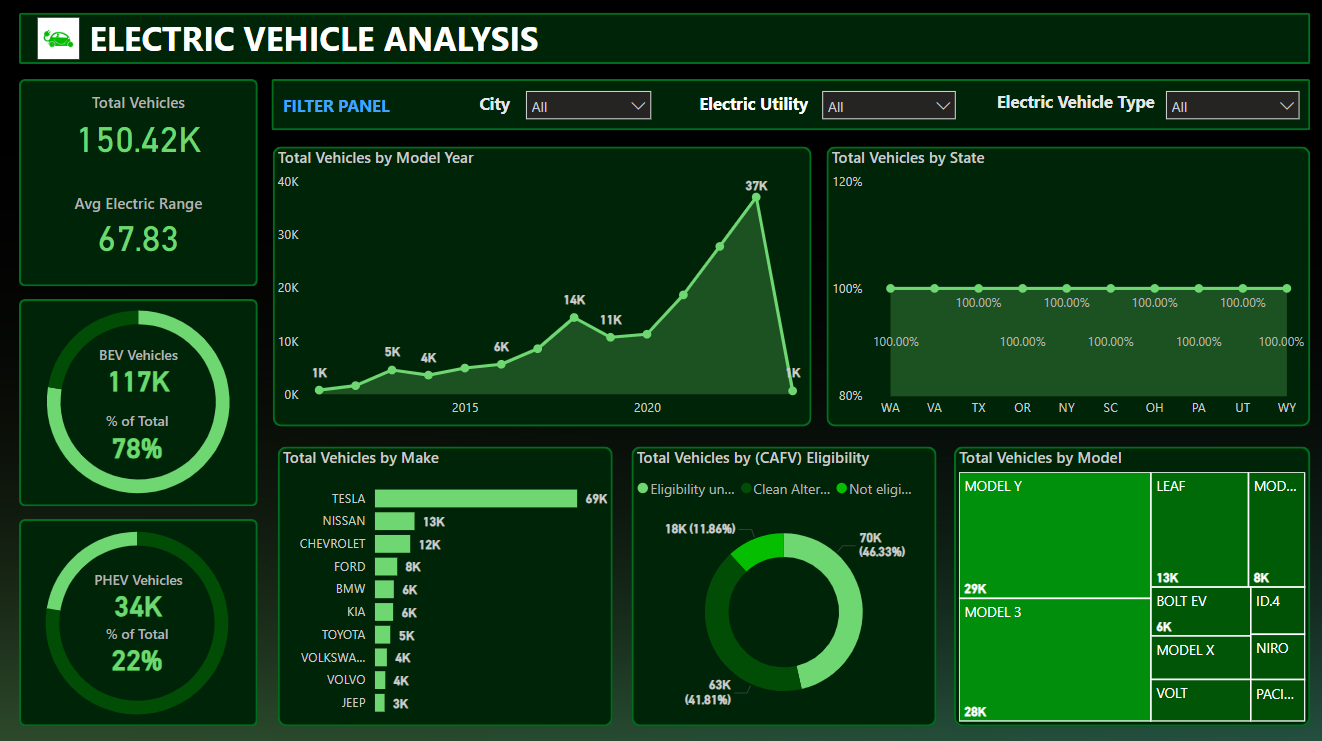

Layout of this report page (visuals, bound fields, positions):
{"tool":"powerbi","page":{"name":"Page 1","canvas":[1280,720],"ordinal":0},"visuals":[{"type":"shape","box":[19.3,13.3,1246.3,49.5],"z":0},{"type":"textbox","box":[82,10.9,471.7,55.5],"z":1000},{"type":"shape","box":[19.3,77.2,230.4,200.3],"z":2000},{"type":"card","title":"Total Vehicles","fields":{"Values":["Electric_Vehicle_Population_Data.Total Vehicles"]},"box":[27.7,89.3,213.5,67.6],"z":3000},{"type":"card","title":"Avg Electric Range","fields":{"Values":["Avg(Electric_Vehicle_Population_Data.Electric Range)"]},"box":[27.7,187,213.5,62.7],"z":4000},{"type":"shape","box":[19.3,289.5,230.4,200.3],"z":5000},{"type":"shape","box":[19.3,501.9,230.4,200.3],"z":6000},{"type":"donutChart","fields":{"Category":["Electric_Vehicle_Population_Data.Electric Vehicle Type"],"Y":["Electric_Vehicle_Population_Data.Total Vehicles"]},"box":[4.8,273.9,259.4,230.4],"z":7000},{"type":"card","title":"BEV Vehicles","fields":{"Values":["Electric_Vehicle_Population_Data.BEV Vehicles"]},"box":[49.5,334.2,170.1,50.7],"z":8000},{"type":"card","title":"% of Total","fields":{"Values":["Electric_Vehicle_Population_Data.% of BEV"]},"box":[48.3,398.1,170.1,50.7],"z":9000},{"type":"donutChart","fields":{"Category":["Electric_Vehicle_Population_Data.Electric Vehicle Type"],"Y":["Electric_Vehicle_Population_Data.Total Vehicles"]},"box":[3.6,487.4,259.4,230.4],"z":10000},{"type":"card","title":"PHEV Vehicles","fields":{"Values":["Electric_Vehicle_Population_Data.PHEV Vehicles"]},"box":[49.5,551.3,170.1,50.7],"z":11000},{"type":"card","title":"% of Total","fields":{"Values":["Electric_Vehicle_Population_Data.% of PHEV"]},"box":[48.3,603.2,170.1,50.7],"z":12000},{"type":"shape","box":[263,77.2,1002.6,49.5],"z":13000},{"type":"shape","box":[264.2,142.4,520,270.2],"z":14000},{"type":"areaChart","fields":{"Category":["Electric_Vehicle_Population_Data.Model Year"],"Y":["Electric_Vehicle_Population_Data.Total Vehicles"]},"box":[264.2,142.4,520,270.2],"z":15000},{"type":"shape","box":[798.7,142.4,466.9,270.2],"z":16000},{"type":"hundredPercentStackedAreaChart","fields":{"Category":["Electric_Vehicle_Population_Data.State"],"Y":["Electric_Vehicle_Population_Data.Total Vehicles"]},"box":[798.6,142.7,466.6,270.3],"z":17000},{"type":"shape","box":[269,431.9,323.3,270.2],"z":18000},{"type":"shape","box":[610.5,431.9,294.4,270.2],"z":19000},{"type":"barChart","fields":{"Category":["Electric_Vehicle_Population_Data.Make"],"Y":["Electric_Vehicle_Population_Data.Total Vehicles"]},"box":[269,431.9,323.3,270.2],"z":20000},{"type":"donutChart","title":"Total Vehicles by  (CAFV) Eligibility","fields":{"Category":["Electric_Vehicle_Population_Data.Clean Alternative Fuel Vehicle (CAFV) Eligibility"],"Y":["Electric_Vehicle_Population_Data.Total Vehicles"]},"box":[610.5,431.9,294.4,270.2],"z":21000},{"type":"shape","box":[921.7,431.9,343.8,270.2],"z":22000},{"type":"treemap","fields":{"Group":["Electric_Vehicle_Population_Data.Model"],"Values":["Electric_Vehicle_Population_Data.Total Vehicles"]},"box":[921.7,431.9,343.8,270.2],"z":23000},{"type":"textbox","box":[269,86.9,153.2,39.8],"z":24000},{"type":"slicer","fields":{"Values":["Electric_Vehicle_Population_Data.City"]},"box":[498.3,78.4,141.2,56.7],"z":25000},{"type":"textbox","box":[458.4,84.5,54.3,39.8],"z":26000},{"type":"slicer","fields":{"Values":["Electric_Vehicle_Population_Data.City"]},"box":[784.2,78.4,149.6,56.7],"z":27000},{"type":"textbox","box":[670.8,84.5,127.9,39.8],"z":28000},{"type":"slicer","fields":{"Values":["Electric_Vehicle_Population_Data.City"]},"box":[1116,78.4,149.6,56.7],"z":29000},{"type":"textbox","box":[957.9,83.2,172.5,39.8],"z":30000},{"type":"image","box":[32.6,13.3,49.5,49.5],"z":31000}]}

Visuals, with their boxes in screenshot pixels (x1, y1, x2, y2), scaled from the page's 1280x720 canvas onto the 1322x741 screenshot:
shape: {"left": 20, "top": 14, "right": 1307, "bottom": 65}
textbox: {"left": 85, "top": 11, "right": 572, "bottom": 68}
shape: {"left": 20, "top": 79, "right": 258, "bottom": 286}
"Total Vehicles" card: {"left": 29, "top": 92, "right": 249, "bottom": 161}
"Avg Electric Range" card: {"left": 29, "top": 192, "right": 249, "bottom": 257}
shape: {"left": 20, "top": 298, "right": 258, "bottom": 504}
shape: {"left": 20, "top": 517, "right": 258, "bottom": 723}
donutChart - Electric_Vehicle_Population_Data.Electric Vehicle Type x Electric_Vehicle_Population_Data.Total Vehicles: {"left": 5, "top": 282, "right": 273, "bottom": 519}
"BEV Vehicles" card: {"left": 51, "top": 344, "right": 227, "bottom": 396}
"% of Total" card: {"left": 50, "top": 410, "right": 226, "bottom": 462}
donutChart - Electric_Vehicle_Population_Data.Electric Vehicle Type x Electric_Vehicle_Population_Data.Total Vehicles: {"left": 4, "top": 502, "right": 272, "bottom": 739}
"PHEV Vehicles" card: {"left": 51, "top": 567, "right": 227, "bottom": 620}
"% of Total" card: {"left": 50, "top": 621, "right": 226, "bottom": 673}
shape: {"left": 272, "top": 79, "right": 1307, "bottom": 130}
shape: {"left": 273, "top": 147, "right": 810, "bottom": 425}
areaChart - Electric_Vehicle_Population_Data.Model Year x Electric_Vehicle_Population_Data.Total Vehicles: {"left": 273, "top": 147, "right": 810, "bottom": 425}
shape: {"left": 825, "top": 147, "right": 1307, "bottom": 425}
hundredPercentStackedAreaChart - Electric_Vehicle_Population_Data.State x Electric_Vehicle_Population_Data.Total Vehicles: {"left": 825, "top": 147, "right": 1307, "bottom": 425}
shape: {"left": 278, "top": 444, "right": 612, "bottom": 723}
shape: {"left": 631, "top": 444, "right": 935, "bottom": 723}
barChart - Electric_Vehicle_Population_Data.Make x Electric_Vehicle_Population_Data.Total Vehicles: {"left": 278, "top": 444, "right": 612, "bottom": 723}
"Total Vehicles by  (CAFV) Eligibility" donutChart: {"left": 631, "top": 444, "right": 935, "bottom": 723}
shape: {"left": 952, "top": 444, "right": 1307, "bottom": 723}
treemap - Electric_Vehicle_Population_Data.Model x Electric_Vehicle_Population_Data.Total Vehicles: {"left": 952, "top": 444, "right": 1307, "bottom": 723}
textbox: {"left": 278, "top": 89, "right": 436, "bottom": 130}
slicer - Electric_Vehicle_Population_Data.City: {"left": 515, "top": 81, "right": 660, "bottom": 139}
textbox: {"left": 473, "top": 87, "right": 530, "bottom": 128}
slicer - Electric_Vehicle_Population_Data.City: {"left": 810, "top": 81, "right": 964, "bottom": 139}
textbox: {"left": 693, "top": 87, "right": 825, "bottom": 128}
slicer - Electric_Vehicle_Population_Data.City: {"left": 1153, "top": 81, "right": 1307, "bottom": 139}
textbox: {"left": 989, "top": 86, "right": 1167, "bottom": 127}
image: {"left": 34, "top": 14, "right": 85, "bottom": 65}
